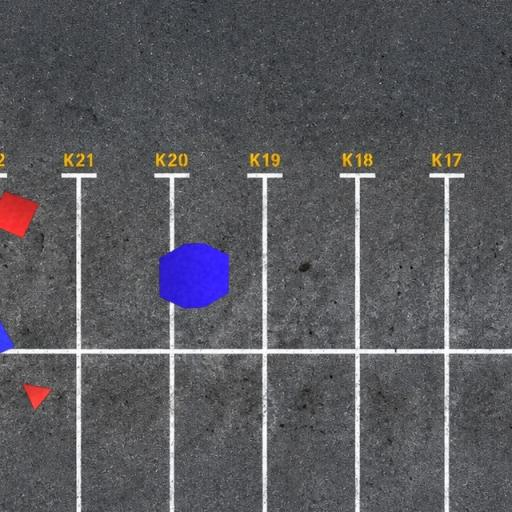RED_SQUARE: (0, 190, 40, 240)
